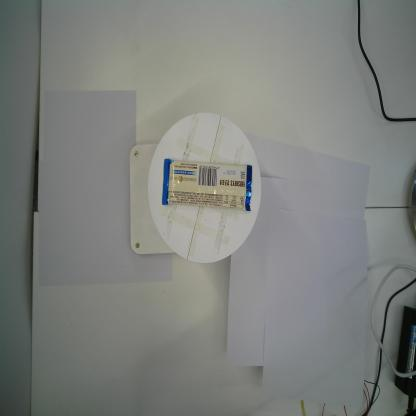Chocolate: (162, 158, 252, 212)
